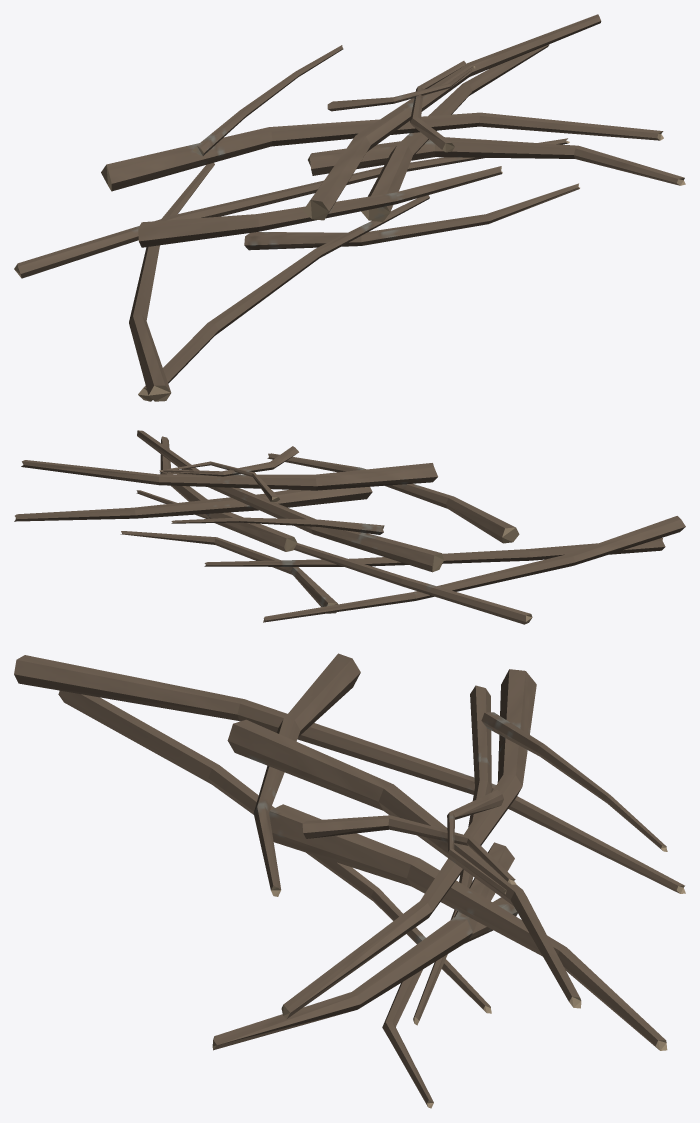
The model's file is river_bridge_litter_sticks.glb.
The picture shows the model from 3 angles, top to bottom: view 1: azimuth 30°, elevation 25°; view 2: azimuth 150°, elevation 25°; view 3: azimuth 270°, elevation 25°; orthographic projection. The views are drawn at different scales.
Parts seen in each view (by area): view 1: BridgeLitterSticks; view 2: BridgeLitterSticks; view 3: BridgeLitterSticks.
Part boxes in pixels (bbox=[...]): BridgeLitterSticks: bbox=[14, 14, 685, 401]; BridgeLitterSticks: bbox=[14, 430, 685, 624]; BridgeLitterSticks: bbox=[14, 653, 685, 1108].
Size of the model in its own units: 1 by 0.2 by 0.65.
1 material, 1 textured.
